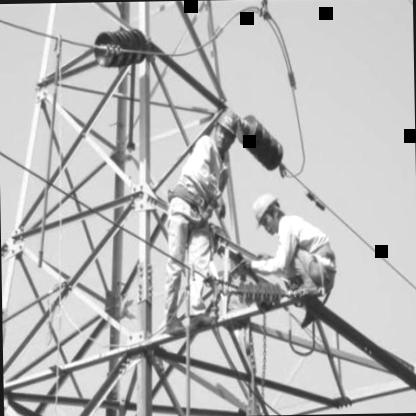helmet: (210, 102, 246, 152), (250, 189, 285, 236)
